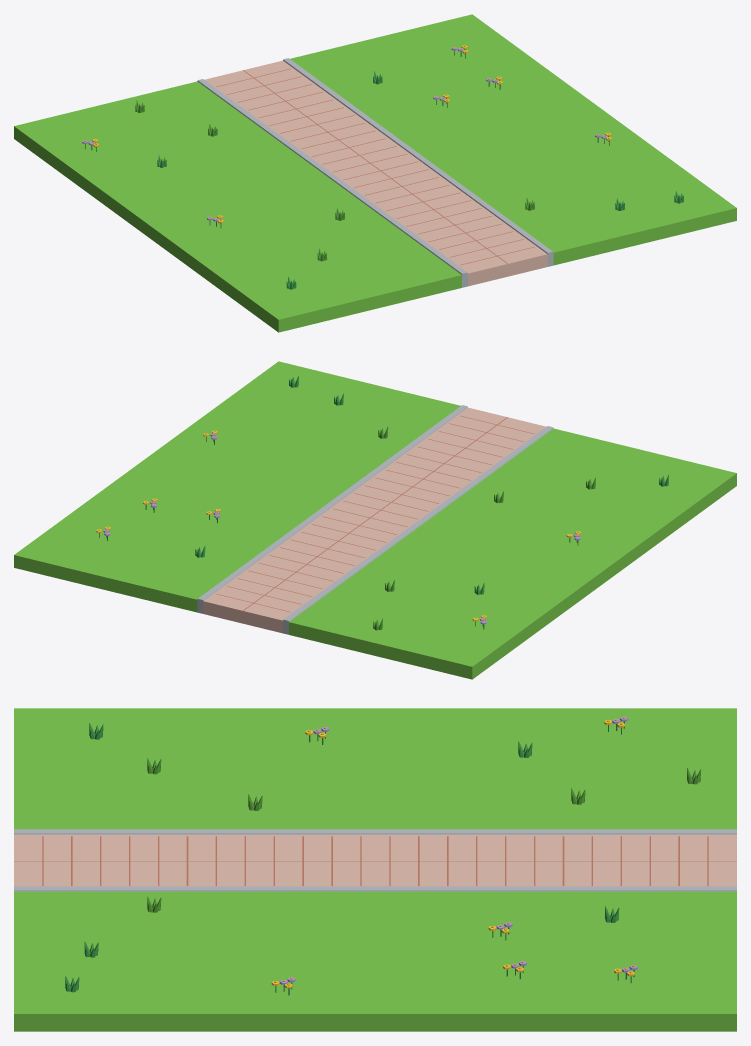
The model's file is caminho_parque_reta.glb.
3 renders of one model, top to bottom at view 1: azimuth 30°, elevation 25°; view 2: azimuth 150°, elevation 25°; view 3: azimuth 270°, elevation 25°, orthographic. The views are drawn at different scales.
Parts seen in each view (by area): view 1: caminho_parque_reta; view 2: caminho_parque_reta; view 3: caminho_parque_reta.
Part boxes in pixels (<box>): caminho_parque_reta: <box>14,14,736,332</box>; caminho_parque_reta: <box>14,361,736,679</box>; caminho_parque_reta: <box>14,708,736,1031</box>.
Size of the model in its own units: 15 by 0.6825 by 15.
Materials: 1 (1 with a texture image).
